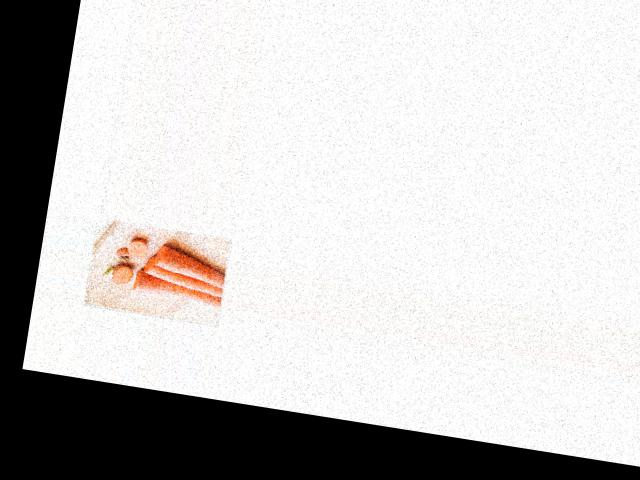carrot: (144, 243, 230, 284)
